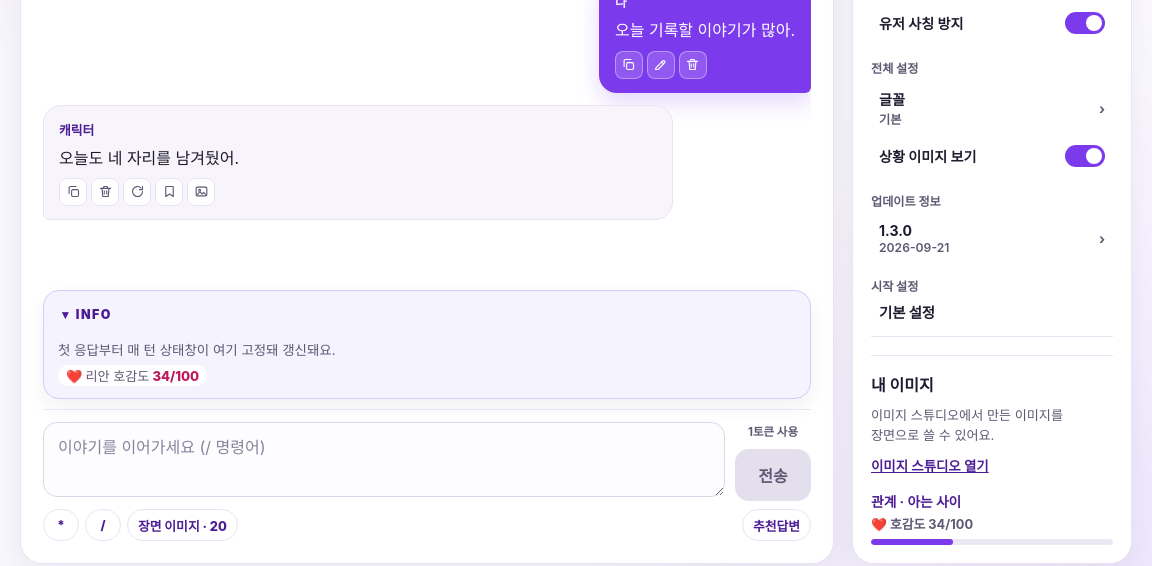
Test: 채팅 흐름 › 응답 실패 후 입력 잠금과 스트리밍 상태를 해제한다
(page scrolled)
Type "실패 응답 확인" into the text box named "메시지" at coordinates (384, 460), box [43, 422, 725, 497]
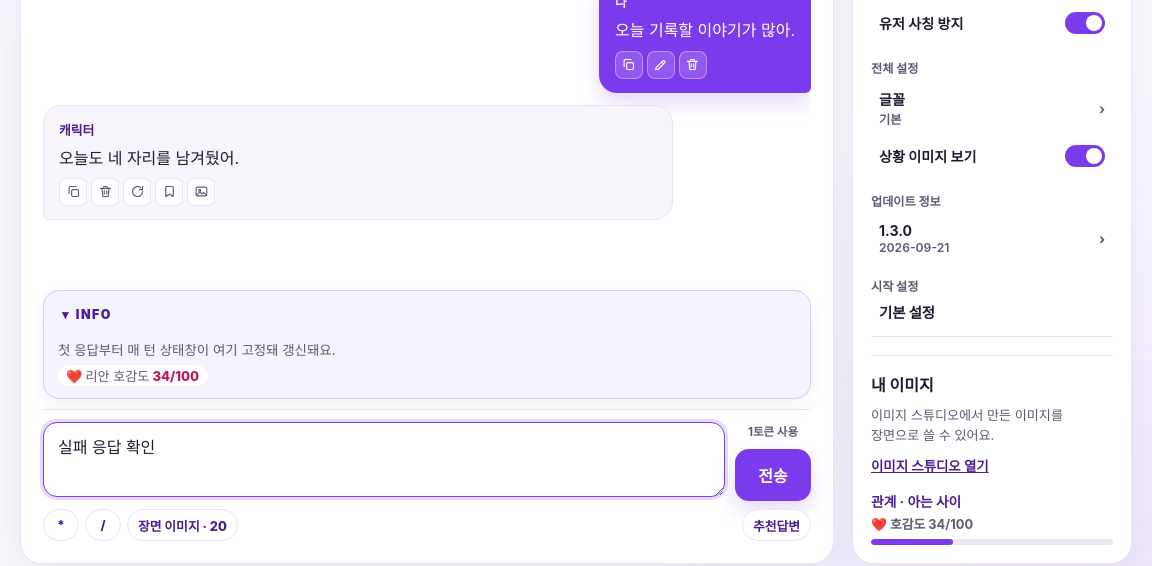
Click the button "전송" at coordinates (773, 475), box [735, 449, 811, 501]
(page scrolled)
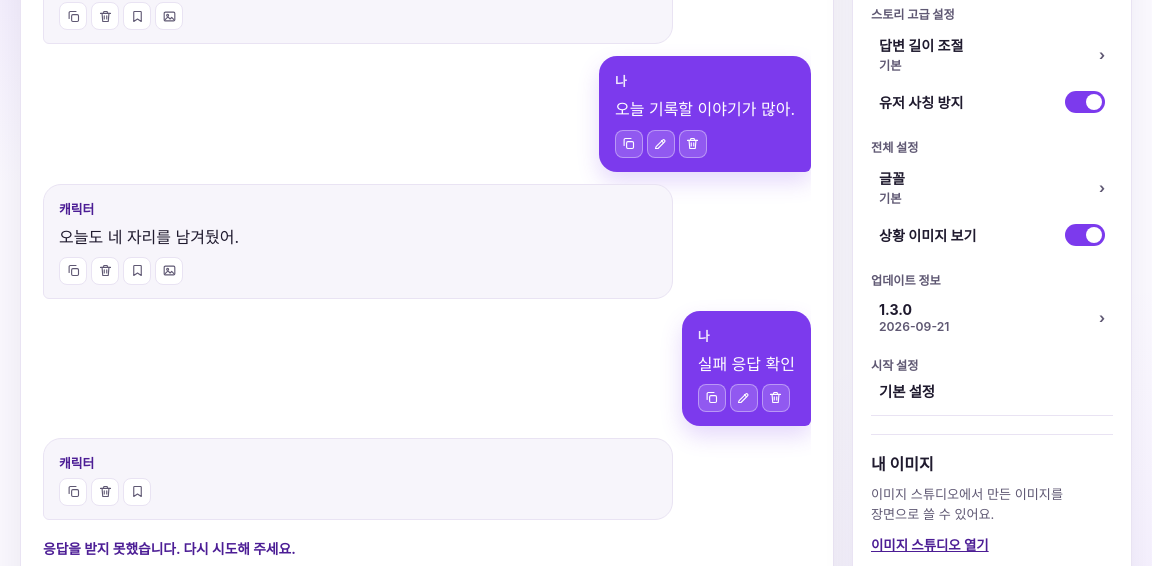
Expected: the message reads "응답을 받지 못했습니다. 다시 시도해 주세요.", [43, 541, 296, 557]
